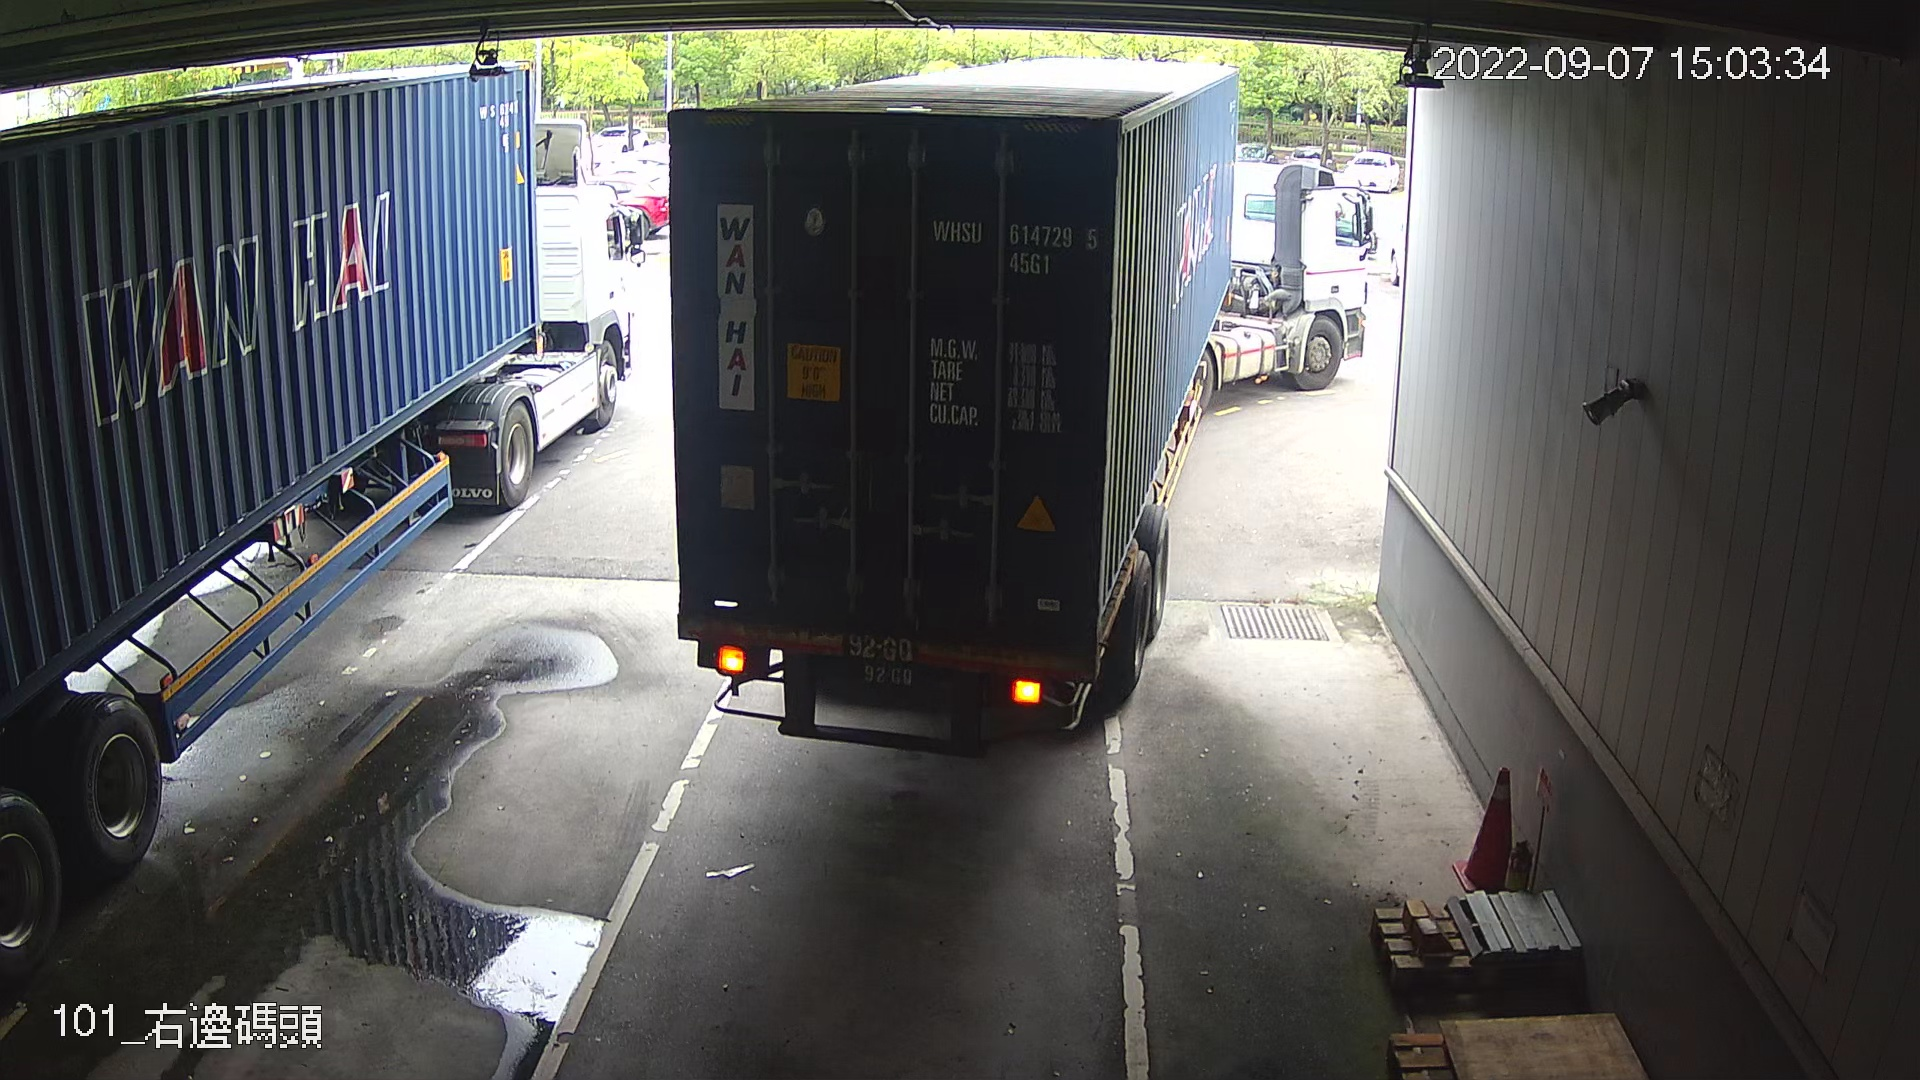container: (923, 200, 1104, 287)
